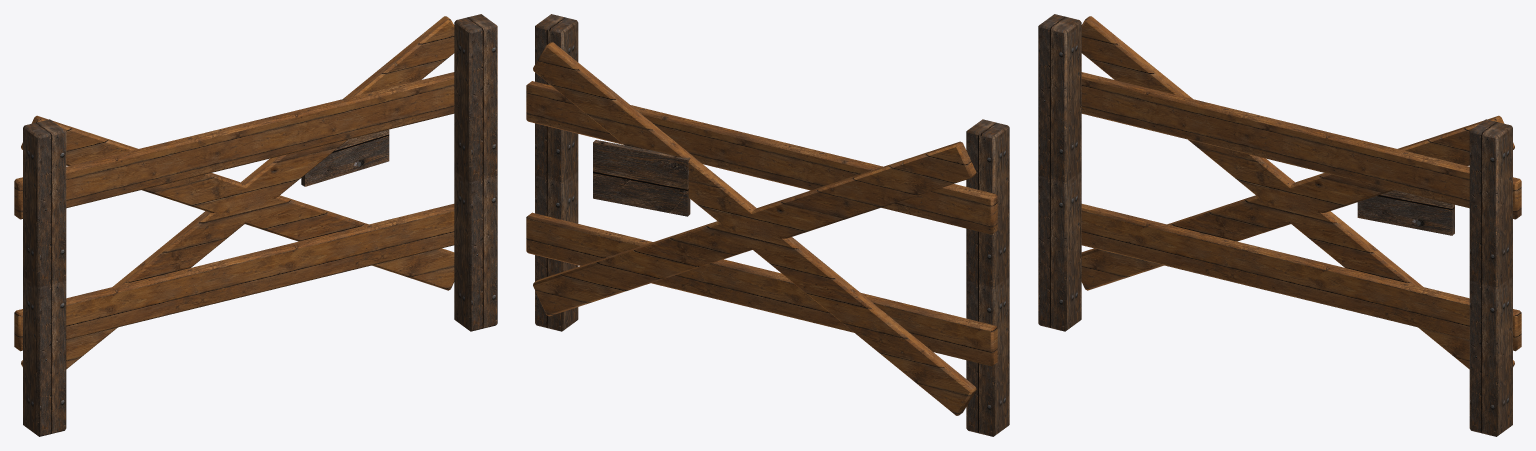
Rendered from mine-barricade-v01.glb.
3 views of the same model, side by side, from view 1: azimuth 30°, elevation 25°; view 2: azimuth 150°, elevation 25°; view 3: azimuth 330°, elevation 25° (orthographic).
Visible parts, largest first — view 1: mine-barricade; view 2: mine-barricade; view 3: mine-barricade.
Part boxes in pixels (box(x1,y1,x2,y2)): mine-barricade: box(14, 14, 497, 436); mine-barricade: box(526, 14, 1009, 436); mine-barricade: box(1038, 14, 1521, 436).
Bounding box in the file's own units: 2.6 × 1.6 × 0.3399.
2 materials, 2 textured.
